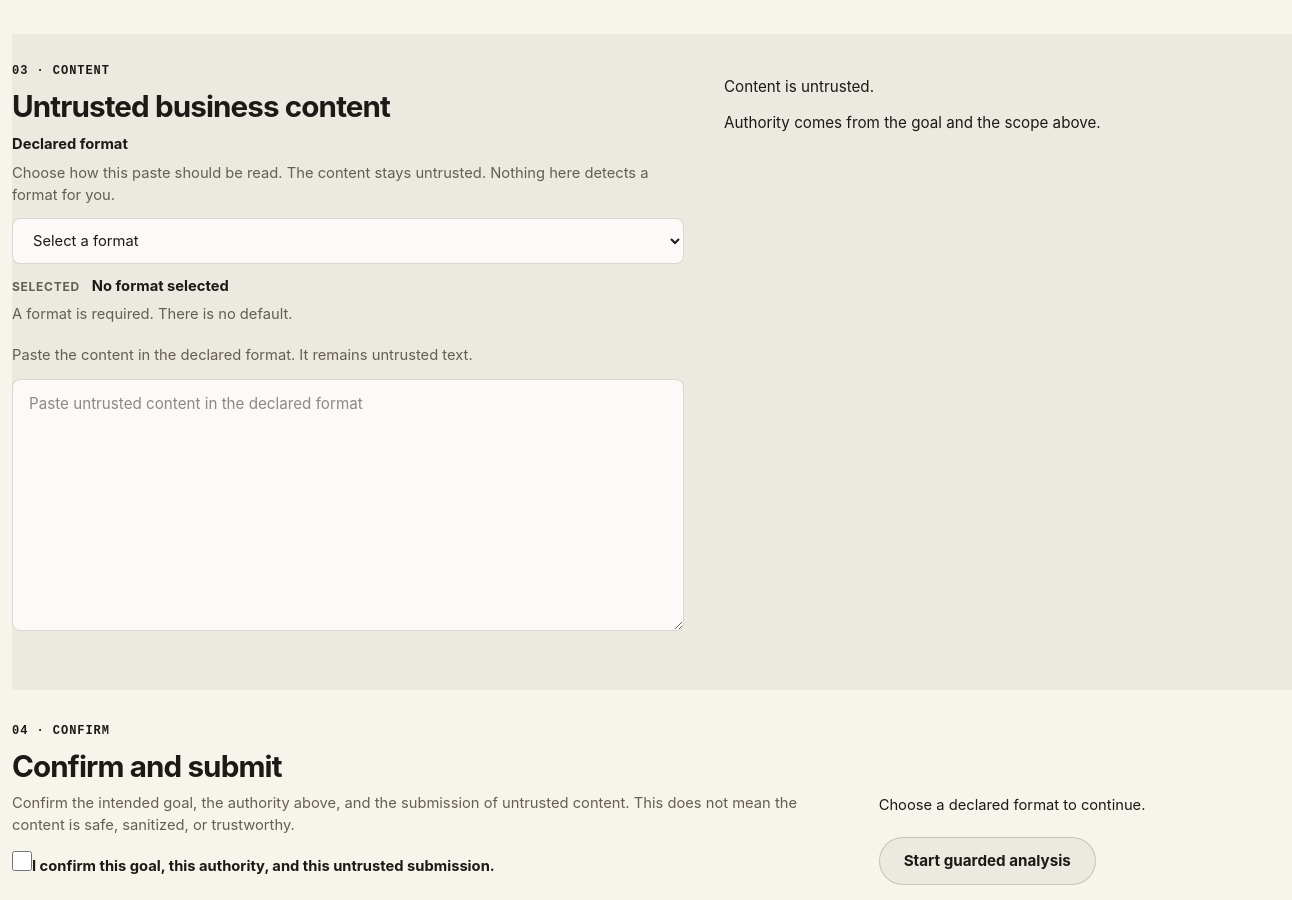
Scenario: authenticated security workbench › shows contextual guidance and keeps the source when the format changes
The image size is (1292, 900).
(page scrolled)
Step 1. Type "KEEP_THIS_SOURCE" into the text box labelled "Untrusted business content" → (348, 505), box [12, 379, 684, 631]
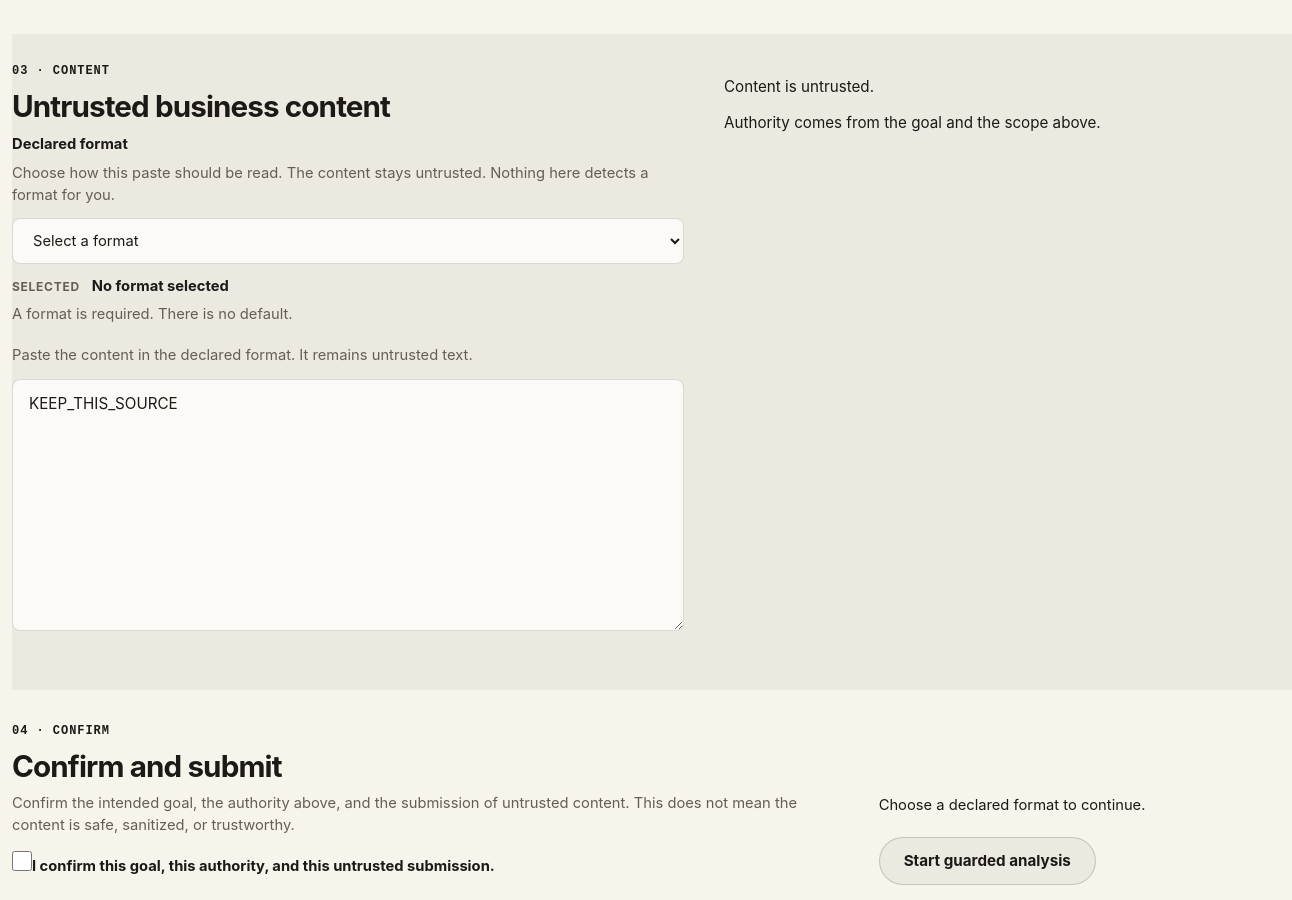
Step 2. Select "Plain text" in the dropdown labelled "Declared format" → (348, 241), box [12, 218, 684, 264]
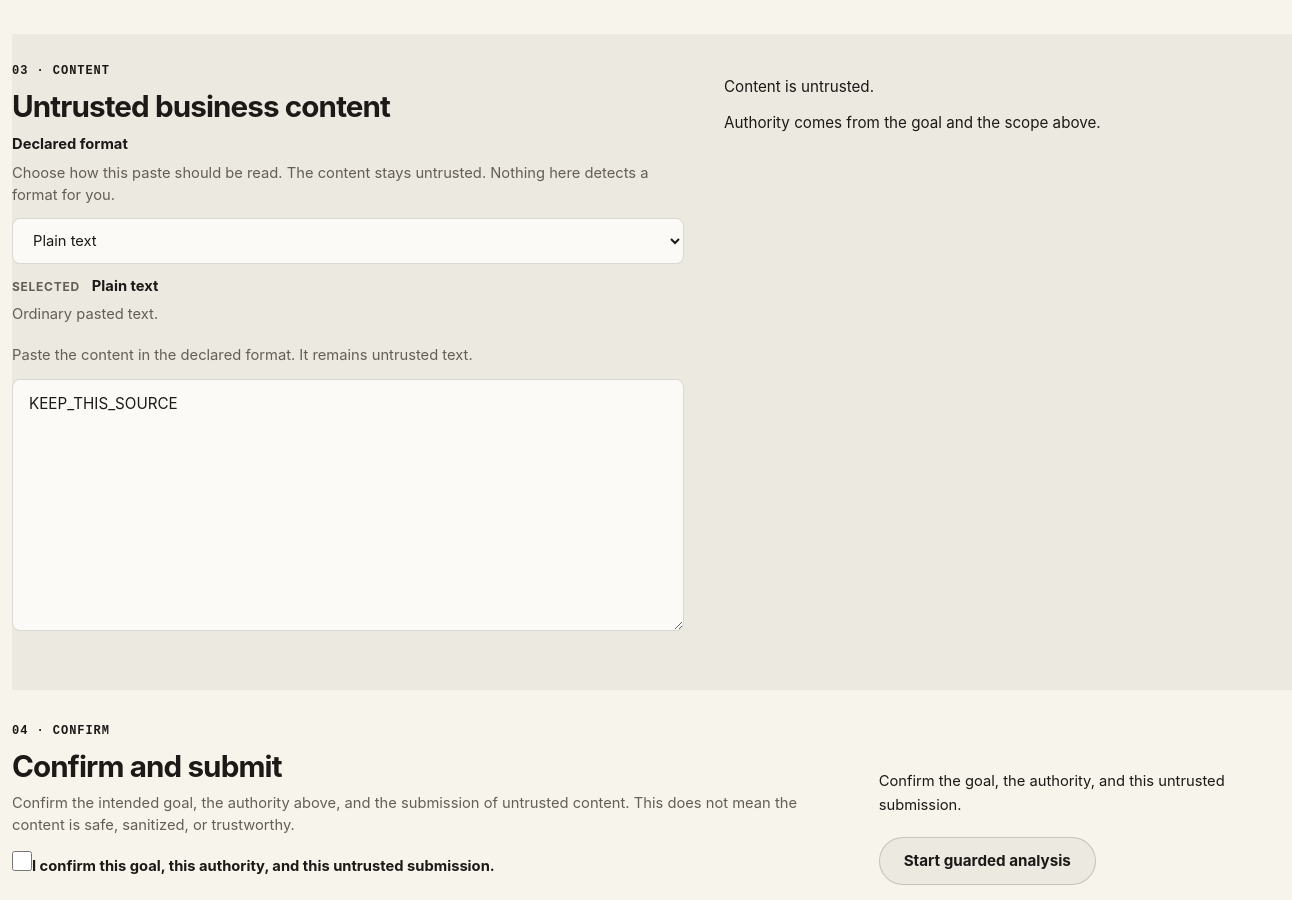
Check: the text "Ordinary pasted text." is shown, box [12, 305, 158, 323]
Step 3. Select "JSON" in the dropdown labelled "Declared format" → (348, 241), box [12, 218, 684, 264]
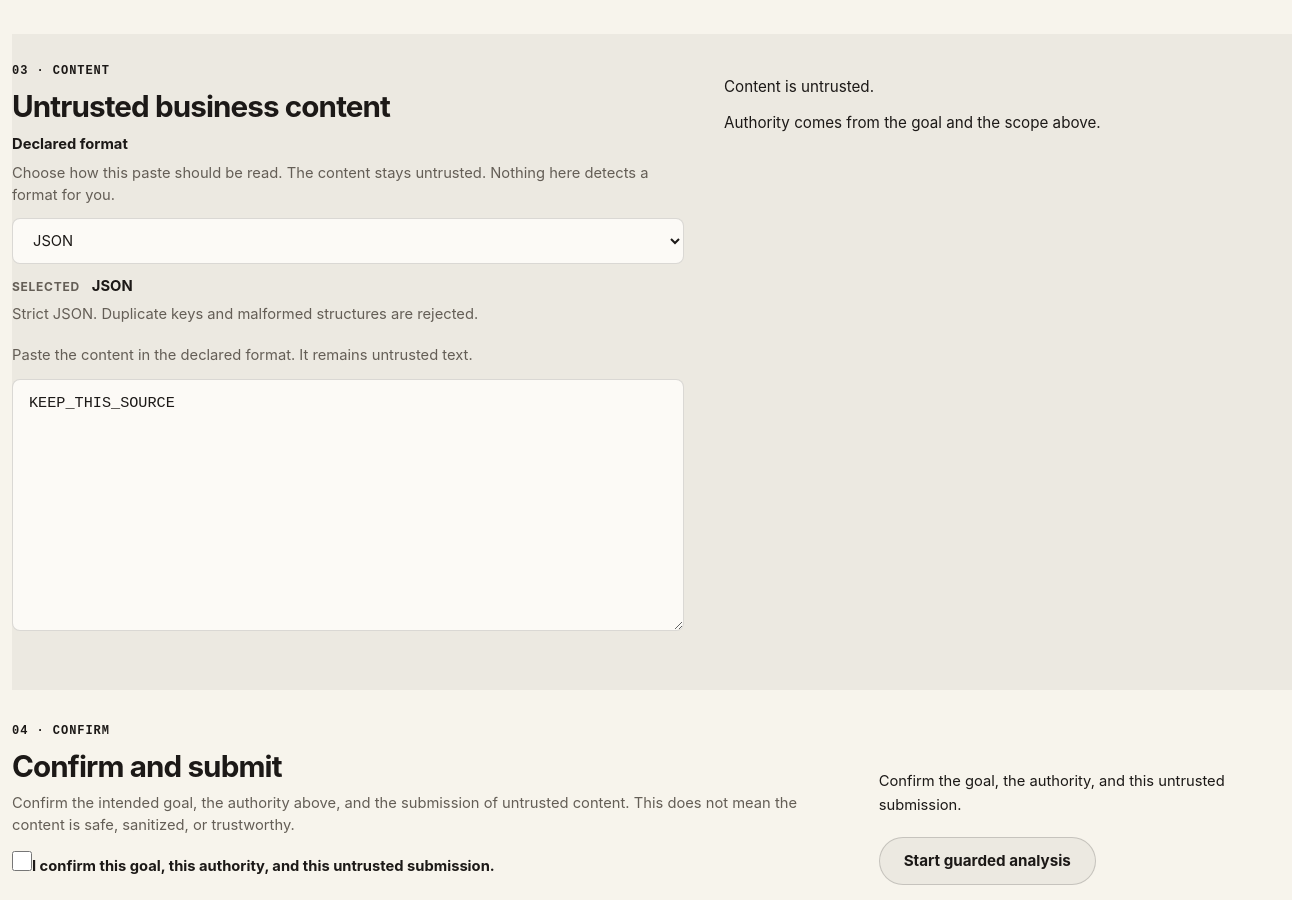
Check: the text "Strict JSON. Duplicate keys and malformed structures are rejected." is shown, box [12, 305, 478, 323]
Step 4. Select "Markdown" in the dropdown labelled "Declared format" → (348, 241), box [12, 218, 684, 264]
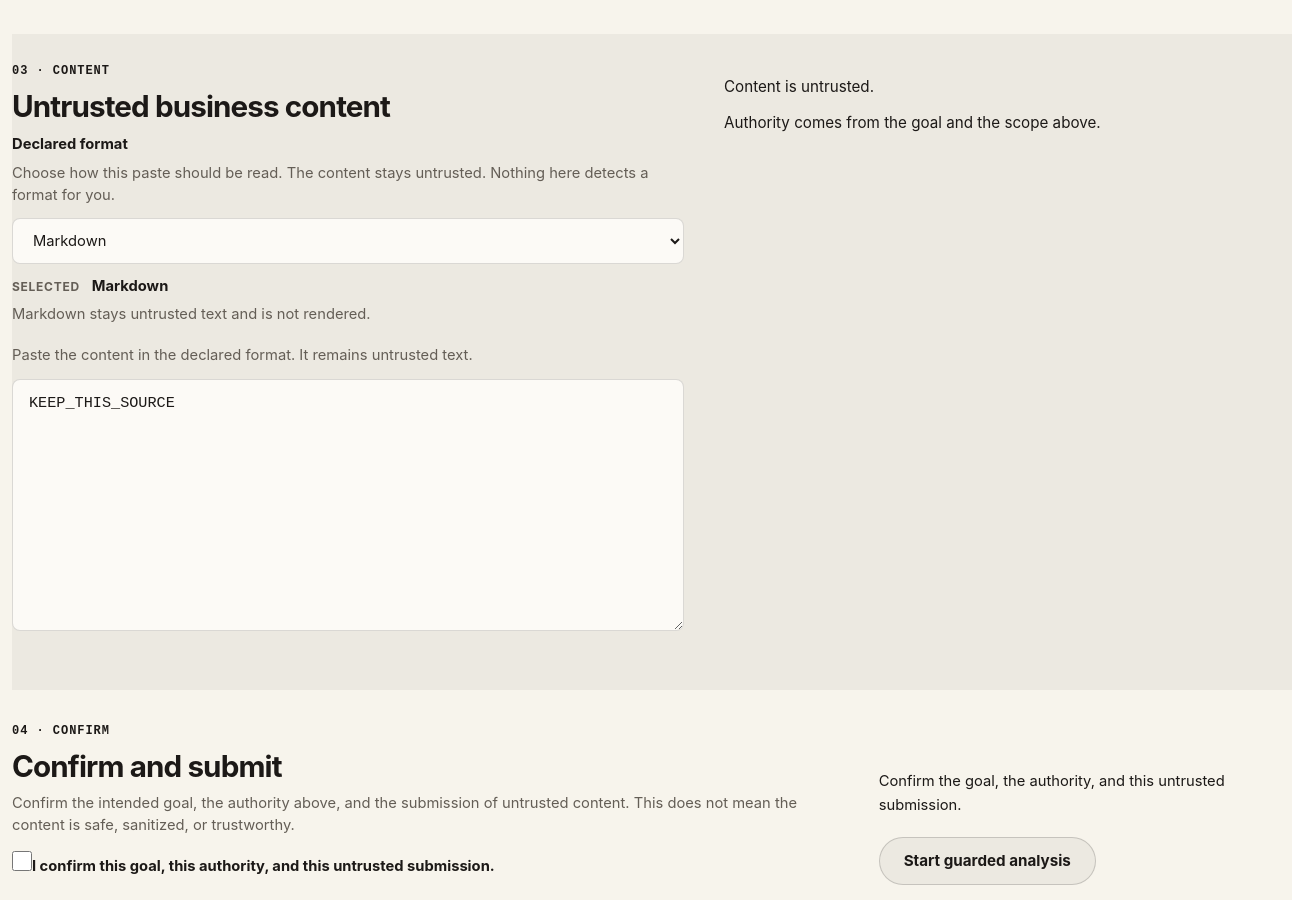
Check: the text "Markdown stays untrusted text and is not rendered." is shown, box [12, 305, 371, 323]
Step 5. Select "HTML" in the dropdown labelled "Declared format" → (348, 241), box [12, 218, 684, 264]
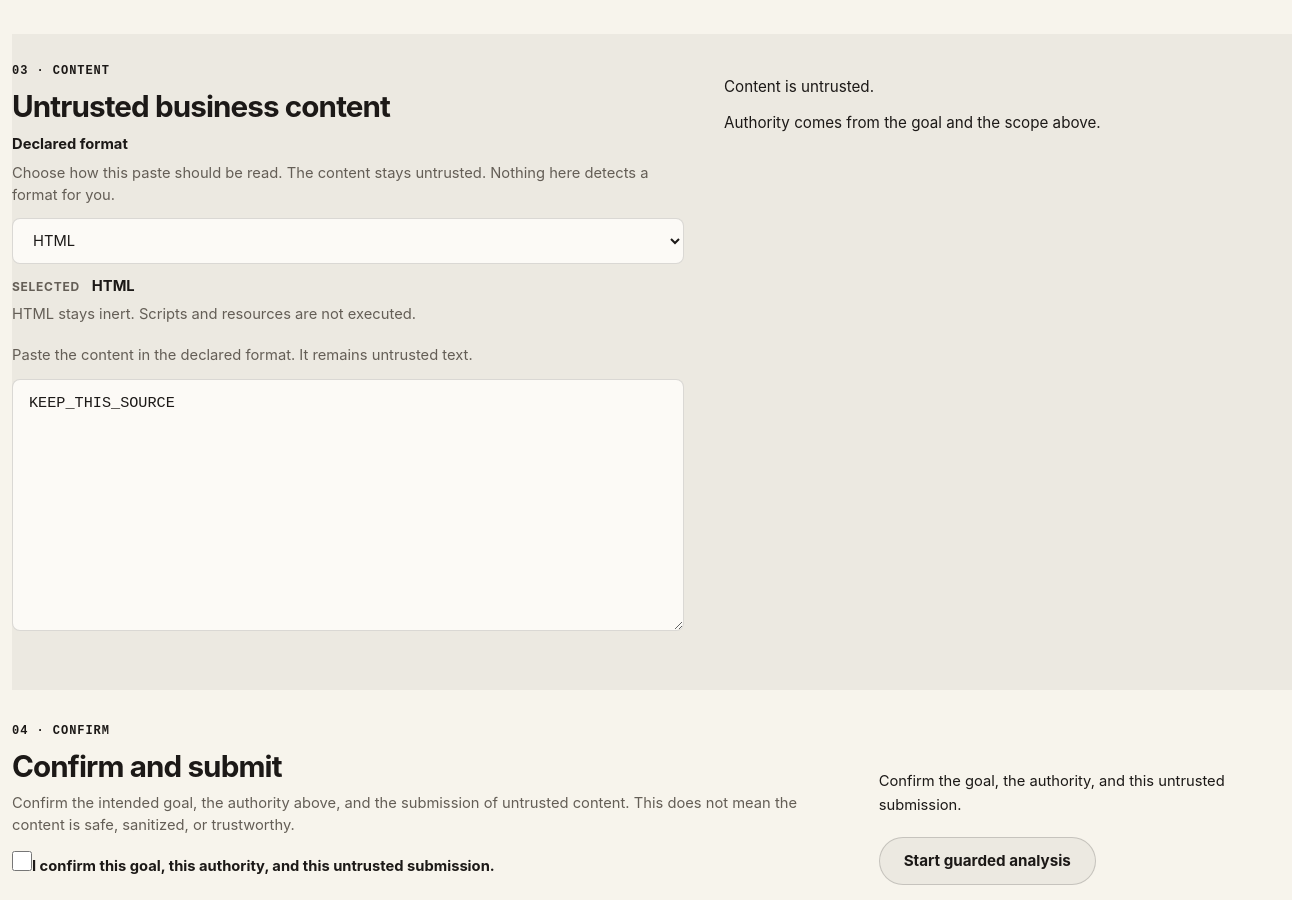
Check: the text "HTML stays inert. Scripts and resources are not executed." is shown, box [12, 305, 416, 323]
Step 6. Select "Email (RFC822)" in the dropdown labelled "Declared format" → (348, 241), box [12, 218, 684, 264]
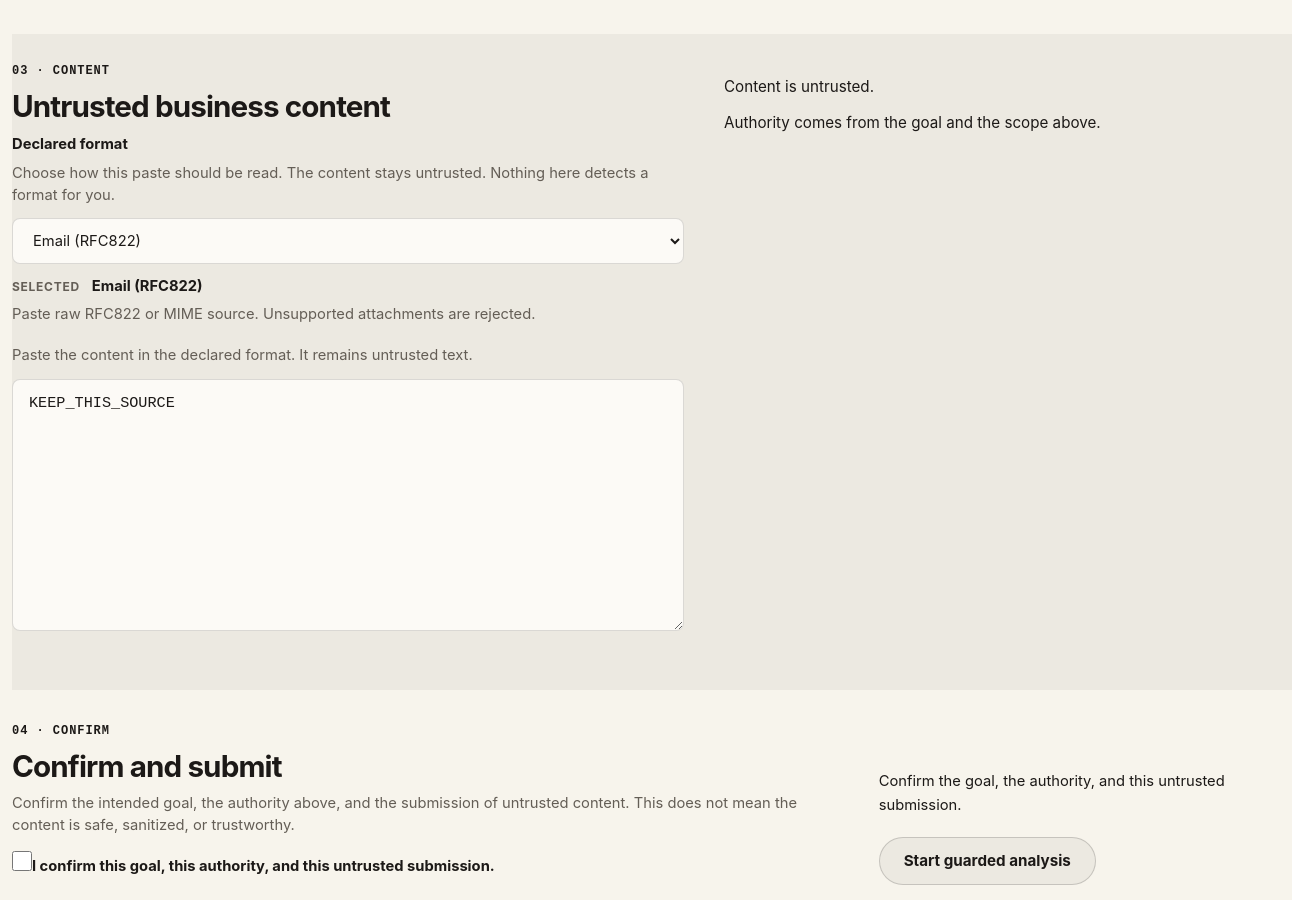
Check: the text "Paste raw RFC822 or MIME source. Unsupported attachments are rejected." is shown, box [12, 305, 535, 323]
